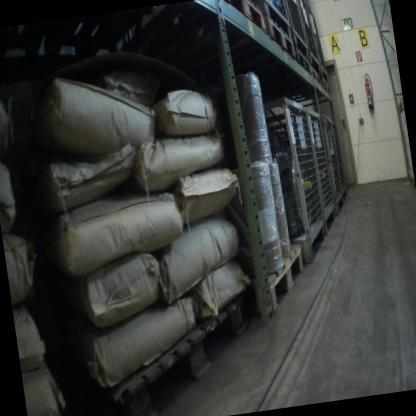pallet: (73, 288, 264, 416), (33, 9, 179, 65), (231, 238, 313, 314), (219, 0, 268, 41), (265, 11, 298, 63), (289, 76, 330, 101), (293, 43, 312, 77), (309, 60, 322, 90), (391, 92, 404, 117), (404, 169, 414, 190)
stillage: (233, 78, 330, 266), (305, 105, 337, 235), (317, 110, 346, 220), (328, 110, 349, 199), (307, 0, 330, 77), (298, 0, 320, 70), (283, 0, 310, 57), (259, 0, 291, 32)
